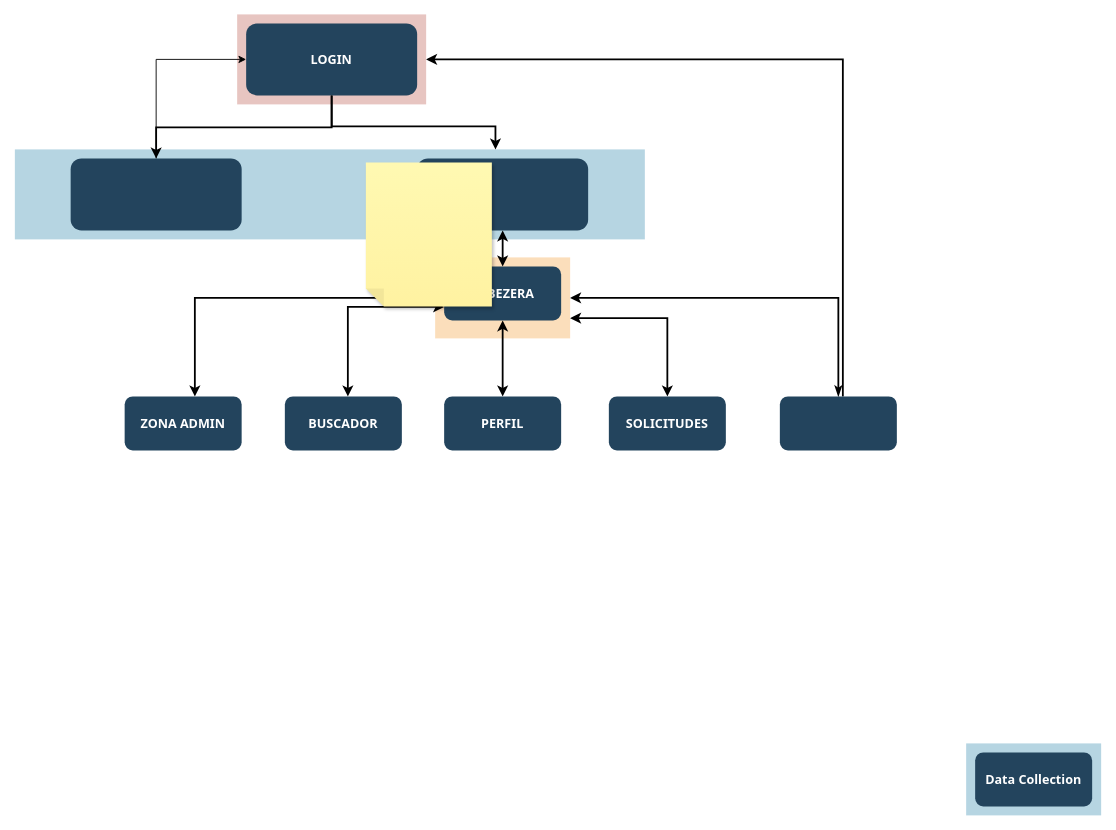
This 1116x830 diagram has some shape labels left out. Here are the shapes that lost their labels. From the top down, the centre of each, then its label:
the point at 155,194: REGISTRO
the point at 502,194: HOME
the point at 837,423: CERRAR SESION
